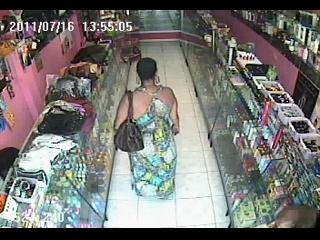Normal: (114, 57, 182, 200), (114, 91, 144, 152)
